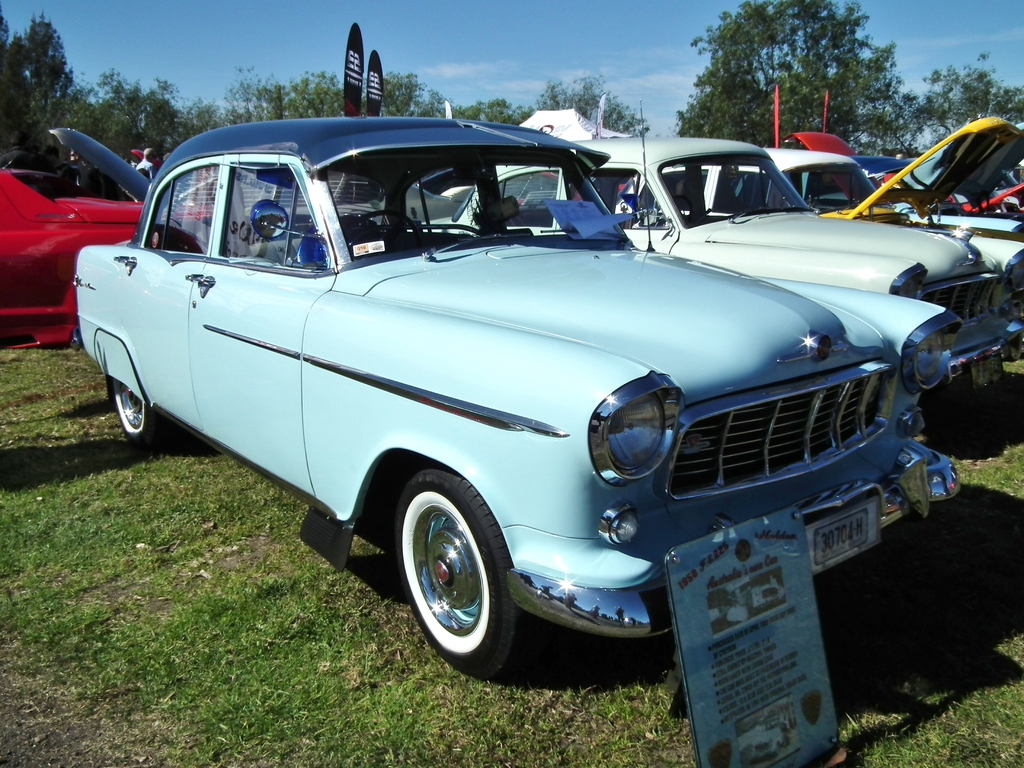Car: (0, 96, 1023, 390), (430, 132, 1023, 380), (659, 146, 1023, 288), (0, 124, 224, 342), (789, 130, 1023, 229)
